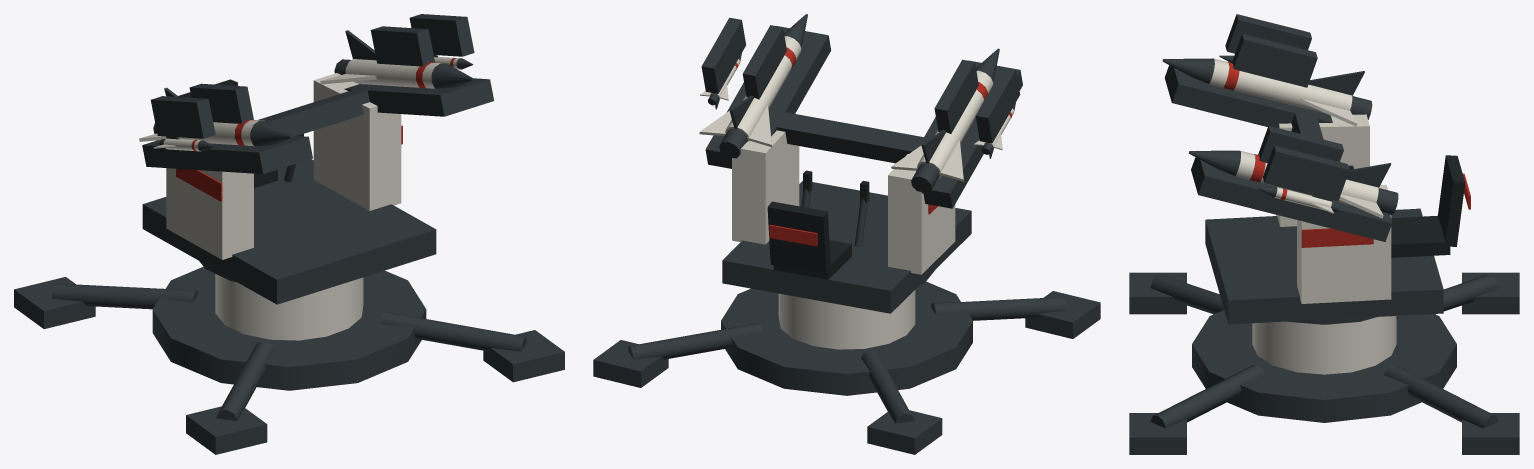
3 renders of one model, left to right at view 1: azimuth 30°, elevation 25°; view 2: azimuth 150°, elevation 25°; view 3: azimuth 270°, elevation 25°, orthographic. The views are drawn at different scales.
Parts seen in each view (by area): view 1: aa-missile-manned-fleet-machine, turret-fleet-machine, elevation-fleet-machine, turret-fleet-armor, aa-missile-manned-fleet-armor, store-right-large-painted, store-left-large-painted, turret-fleet-red, store-left-small-painted; view 2: aa-missile-manned-fleet-machine, elevation-fleet-machine, turret-fleet-machine, turret-fleet-armor, aa-missile-manned-fleet-armor, turret-fleet-rubber, store-left-large-painted, store-right-large-painted, turret-fleet-red; view 3: aa-missile-manned-fleet-machine, elevation-fleet-machine, turret-fleet-machine, turret-fleet-armor, aa-missile-manned-fleet-armor, store-left-large-painted, turret-fleet-rubber, store-right-large-painted, turret-fleet-red, store-right-small-painted.
Part boxes in pixels (x1=…): aa-missile-manned-fleet-machine: x1=14, y1=261, x2=564, y2=454; turret-fleet-machine: x1=142, y1=159, x2=436, y2=304; elevation-fleet-machine: x1=142, y1=14, x2=494, y2=174; turret-fleet-armor: x1=166, y1=73, x2=401, y2=259; aa-missile-manned-fleet-armor: x1=215, y1=274, x2=363, y2=340; store-right-large-painted: x1=320, y1=30, x2=473, y2=88; store-left-large-painted: x1=139, y1=87, x2=292, y2=170; turret-fleet-red: x1=176, y1=125, x2=402, y2=201; store-left-small-painted: x1=153, y1=136, x2=214, y2=159; aa-missile-manned-fleet-machine: x1=593, y1=270, x2=1100, y2=454; elevation-fleet-machine: x1=701, y1=17, x2=1022, y2=208; turret-fleet-machine: x1=722, y1=181, x2=971, y2=313; turret-fleet-armor: x1=732, y1=130, x2=955, y2=274; aa-missile-manned-fleet-armor: x1=778, y1=290, x2=915, y2=349; turret-fleet-rubber: x1=767, y1=170, x2=869, y2=279; store-left-large-painted: x1=891, y1=48, x2=999, y2=193; store-right-large-painted: x1=699, y1=14, x2=807, y2=158; turret-fleet-red: x1=769, y1=204, x2=937, y2=246; aa-missile-manned-fleet-machine: x1=1129, y1=272, x2=1519, y2=454; elevation-fleet-machine: x1=1164, y1=14, x2=1392, y2=241; turret-fleet-machine: x1=1205, y1=208, x2=1443, y2=324; turret-fleet-armor: x1=1276, y1=114, x2=1391, y2=303; aa-missile-manned-fleet-armor: x1=1252, y1=316, x2=1396, y2=374; store-left-large-painted: x1=1162, y1=58, x2=1372, y2=126; turret-fleet-rubber: x1=1348, y1=155, x2=1465, y2=257; store-right-large-painted: x1=1189, y1=150, x2=1398, y2=218; turret-fleet-red: x1=1301, y1=173, x2=1470, y2=247; store-right-small-painted: x1=1257, y1=187, x2=1339, y2=220.
Size of the model in its own units: 22.63 by 18.75 by 22.63.
